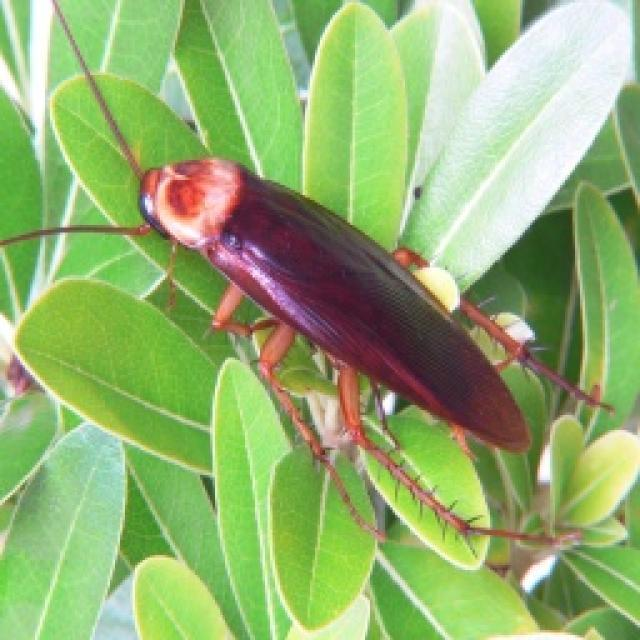cockroach: (118, 100, 611, 521)
